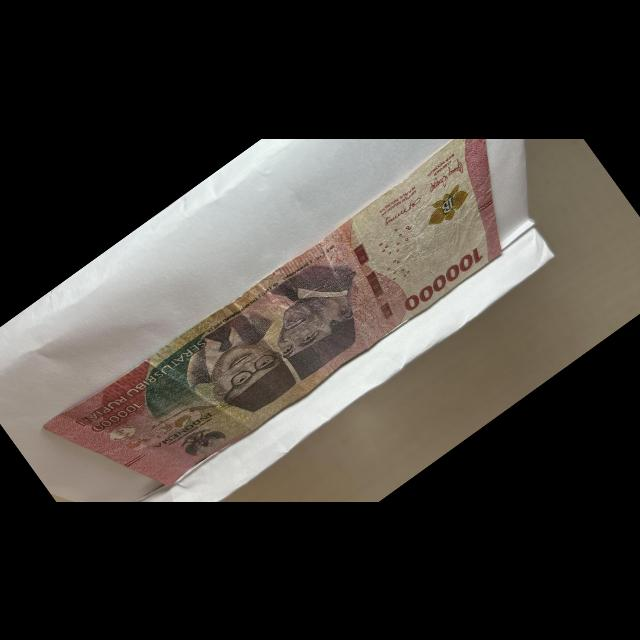Palsu-100k: (37, 132, 527, 532)
Tinta-Palsu-100k: (418, 179, 478, 233)
